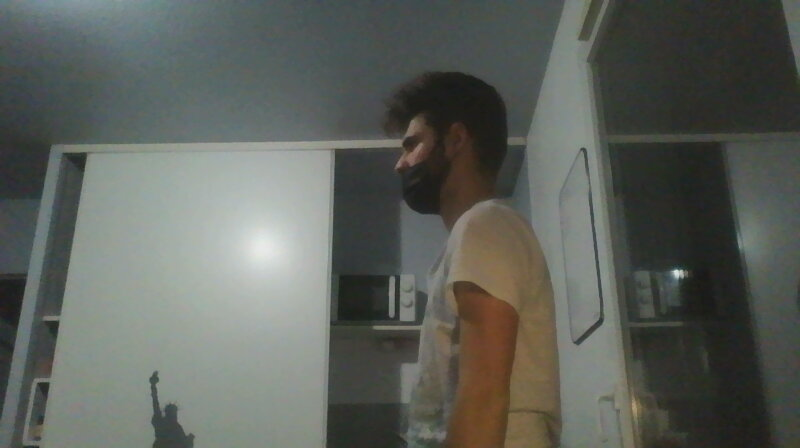with_incorrect_mask: (384, 128, 445, 215)
